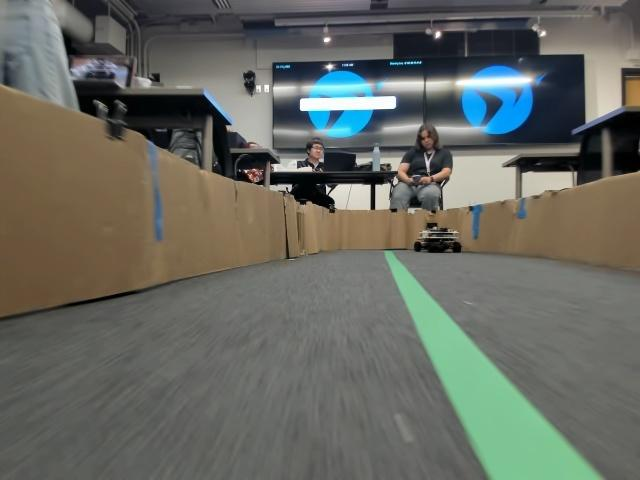Car: (413, 221, 463, 251)
